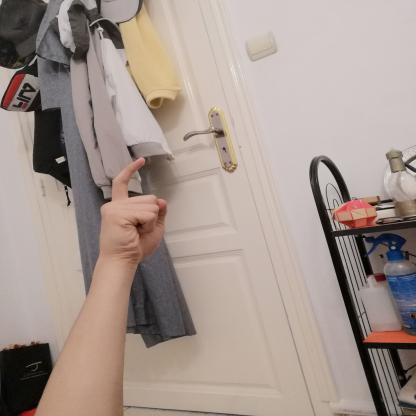RAA: (90, 152, 172, 272)
